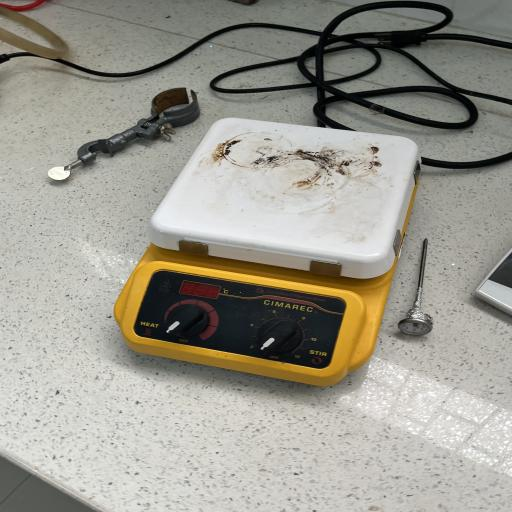Plancha_Agitacion_Cimarec: (98, 113, 437, 397)
